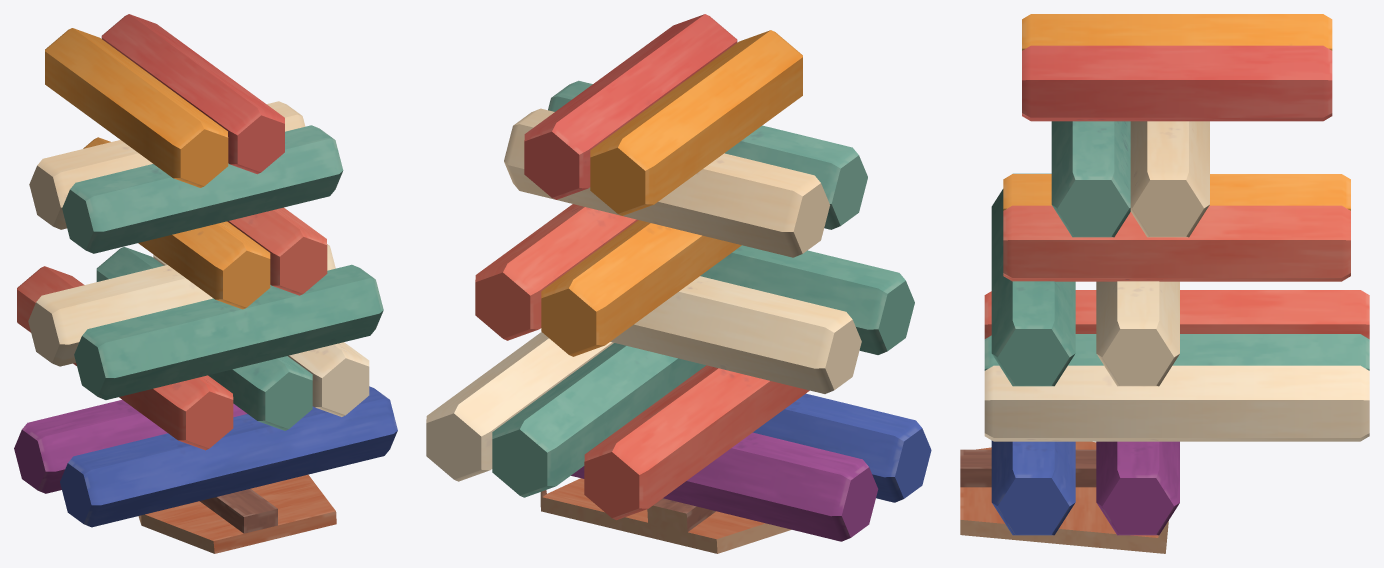
Rendered from bolts_s04.fbx.
3 views of the same model, side by side, from view 1: azimuth 30°, elevation 25°; view 2: azimuth 150°, elevation 25°; view 3: azimuth 270°, elevation 25° (orthographic). The views are drawn at different scales.
Parts seen in each view (by area): view 1: bolts_s04; view 2: bolts_s04; view 3: bolts_s04.
Part boxes in pixels (box(x1,y1,x2,y2)): bolts_s04: box(14, 14, 397, 553); bolts_s04: box(426, 14, 931, 553); bolts_s04: box(960, 14, 1369, 553).
Bounding box in the file's own units: 5.4 × 6.83 × 5.48.
